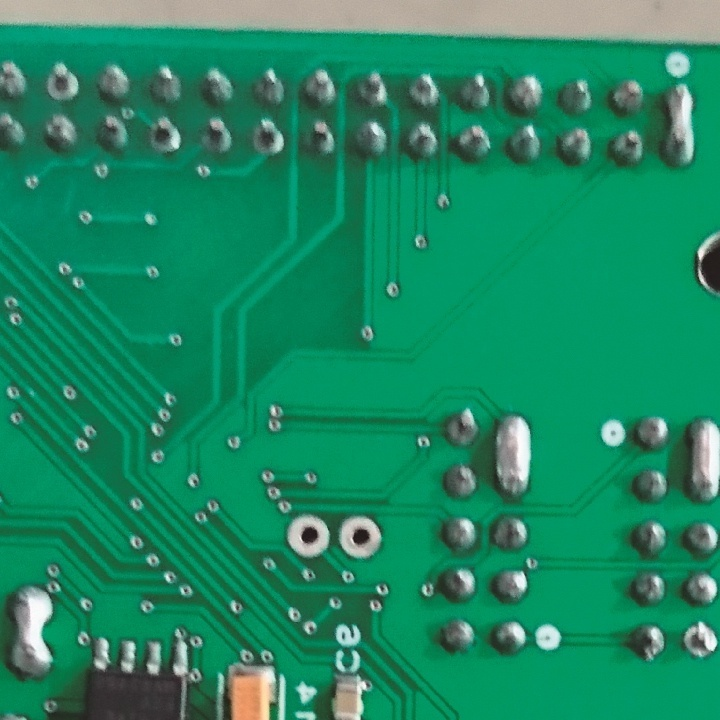F: (336, 513, 383, 562), (284, 512, 331, 560), (247, 118, 287, 160), (681, 618, 720, 661), (43, 63, 81, 104), (147, 118, 184, 158)
P: (7, 580, 58, 683), (490, 412, 538, 502), (660, 80, 702, 171), (685, 412, 720, 510)
